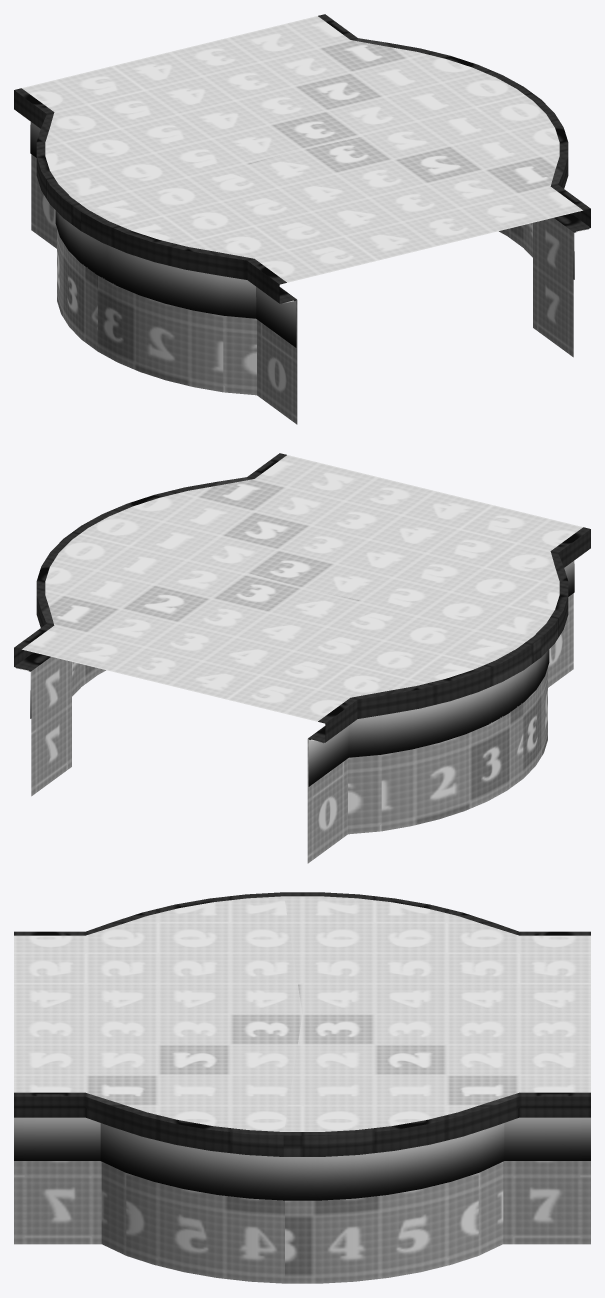
The model's file is Podium01_6.FBX.
The picture shows the model from 3 angles, top to bottom: view 1: azimuth 30°, elevation 25°; view 2: azimuth 150°, elevation 25°; view 3: azimuth 270°, elevation 25°; orthographic projection. The views are drawn at different scales.
Visible parts, largest first — view 1: Podium, Backlight; view 2: Podium, Backlight; view 3: Podium, Backlight.
Part boxes in pixels (x1=…): Podium: x1=14, y1=14, x2=590, y2=424; Backlight: x1=30, y1=122, x2=589, y2=347; Podium: x1=14, y1=453, x2=590, y2=863; Backlight: x1=15, y1=561, x2=574, y2=786; Podium: x1=14, y1=892, x2=590, y2=1283; Backlight: x1=14, y1=1117, x2=590, y2=1200.
Size of the model in its own units: 250 by 75 by 250.
